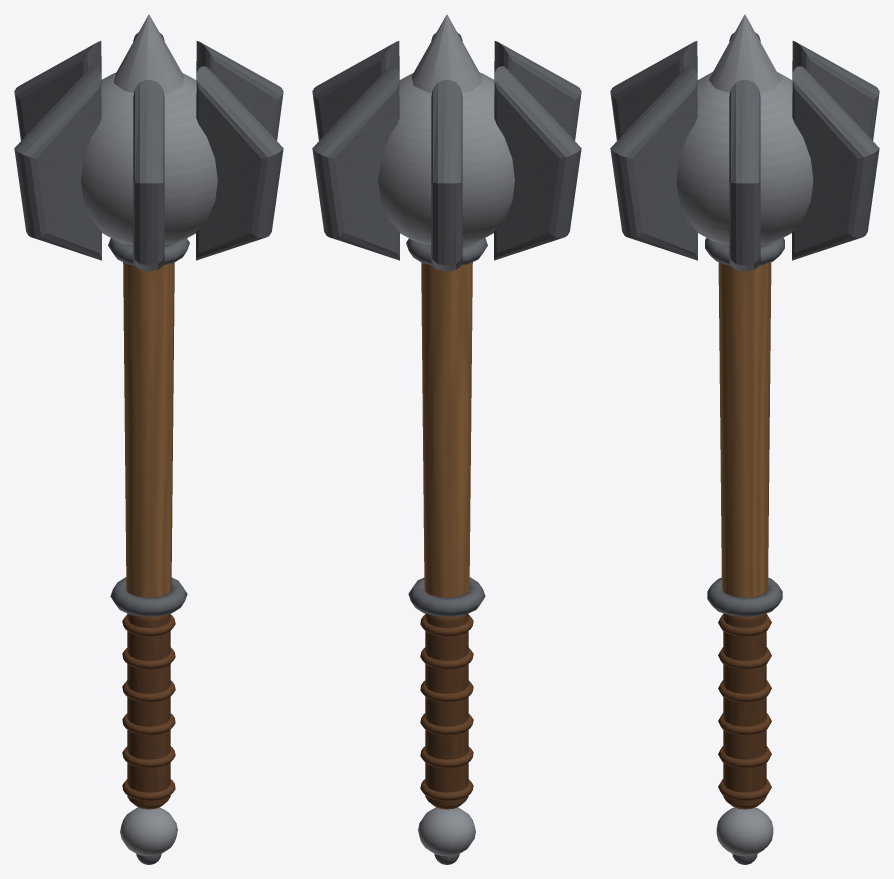
Rendered from mace.glb.
3 renders of one model, left to right at view 1: azimuth 30°, elevation 25°; view 2: azimuth 150°, elevation 25°; view 3: azimuth 270°, elevation 25°, orthographic.
Parts seen in each view (by area): view 1: head, mace, grip, pommel; view 2: head, mace, grip, pommel; view 3: head, mace, grip, pommel.
Part boxes in pixels (x1,y1,x2,y2): head: [14, 14, 283, 271]; mace: [108, 238, 189, 616]; grip: [122, 613, 175, 809]; pommel: [120, 807, 177, 864]; head: [312, 14, 581, 271]; mace: [406, 238, 487, 616]; grip: [420, 613, 473, 809]; pommel: [418, 807, 475, 864]; head: [610, 14, 879, 271]; mace: [705, 238, 784, 616]; grip: [718, 613, 771, 809]; pommel: [716, 807, 773, 864].
Size of the model in its own units: 0.2512 by 0.775 by 0.2226.
4 materials, 4 textured.
